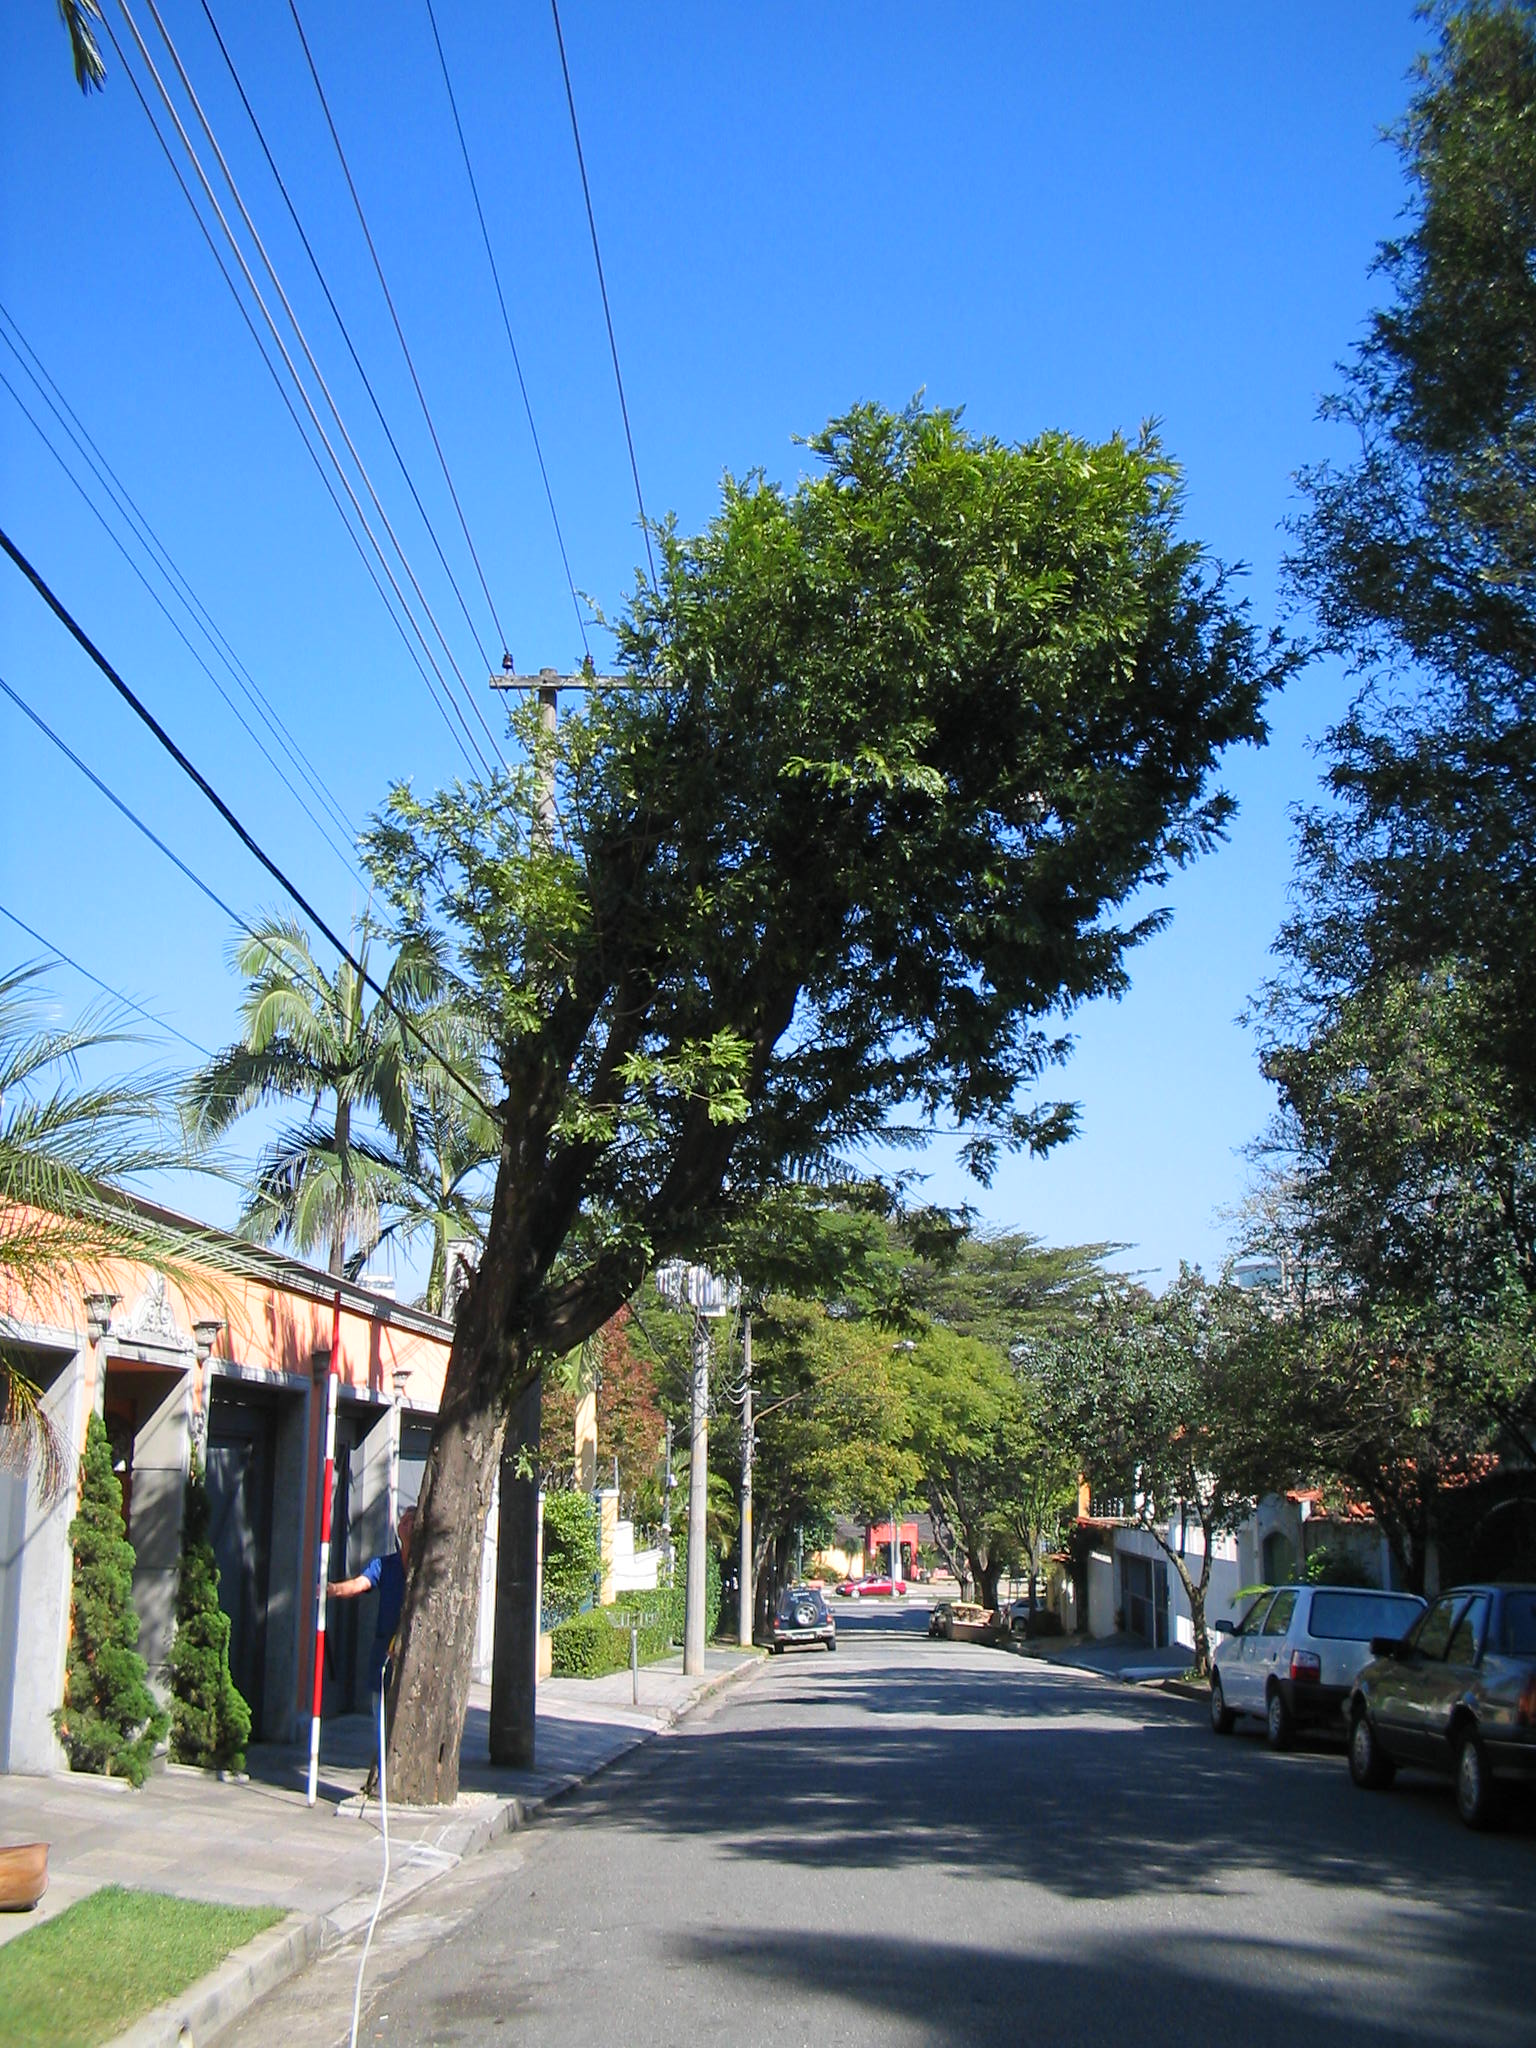crown: (386, 408, 1304, 1400)
stem: (360, 1355, 503, 1803)
stick: (292, 1295, 352, 1811)
tree: (378, 400, 1312, 1803)
